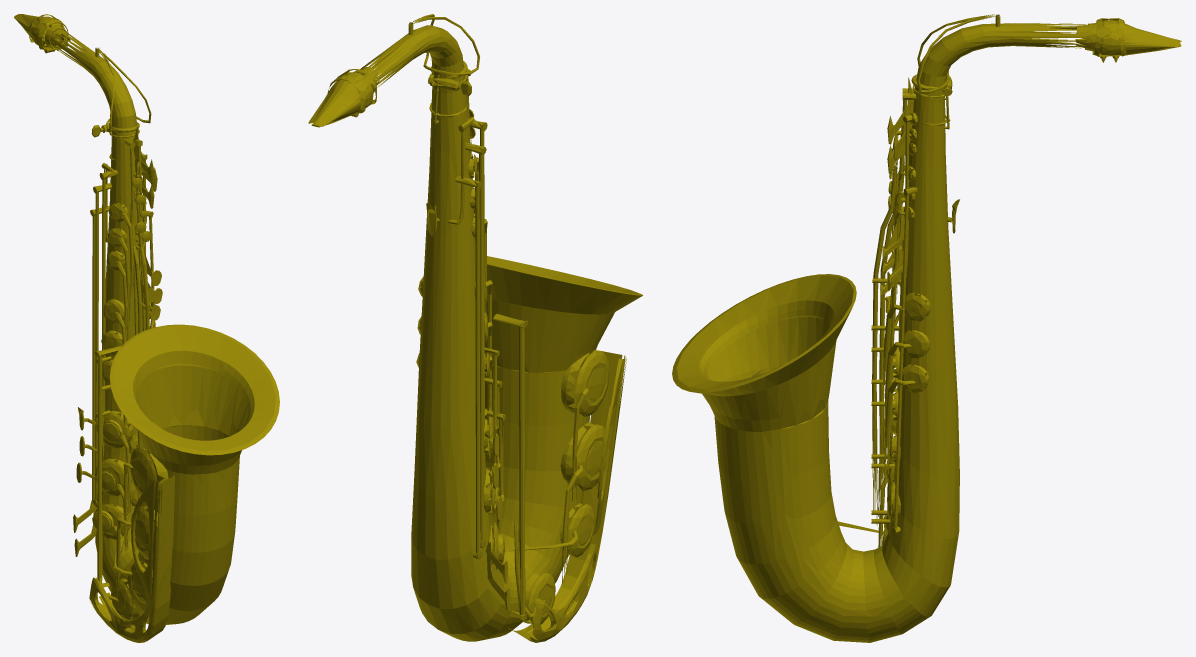
Rendered from altosaxophone1.obj.
3 views of the same model, side by side, from view 1: azimuth 30°, elevation 25°; view 2: azimuth 150°, elevation 25°; view 3: azimuth 270°, elevation 25° (orthographic). The views are drawn at different scales.
Visible parts, largest first — view 1: Object.1; view 2: Object.1; view 3: Object.1.
Boxes of the visible parts, x1,y1,x2,y2 form: Object.1: [14, 14, 279, 642]; Object.1: [308, 14, 642, 642]; Object.1: [672, 14, 1181, 642].
Size of the model in its own units: 26.73 by 89.29 by 66.05.
